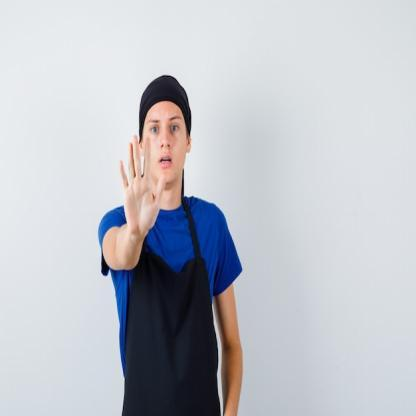stop: (116, 130, 168, 236)
